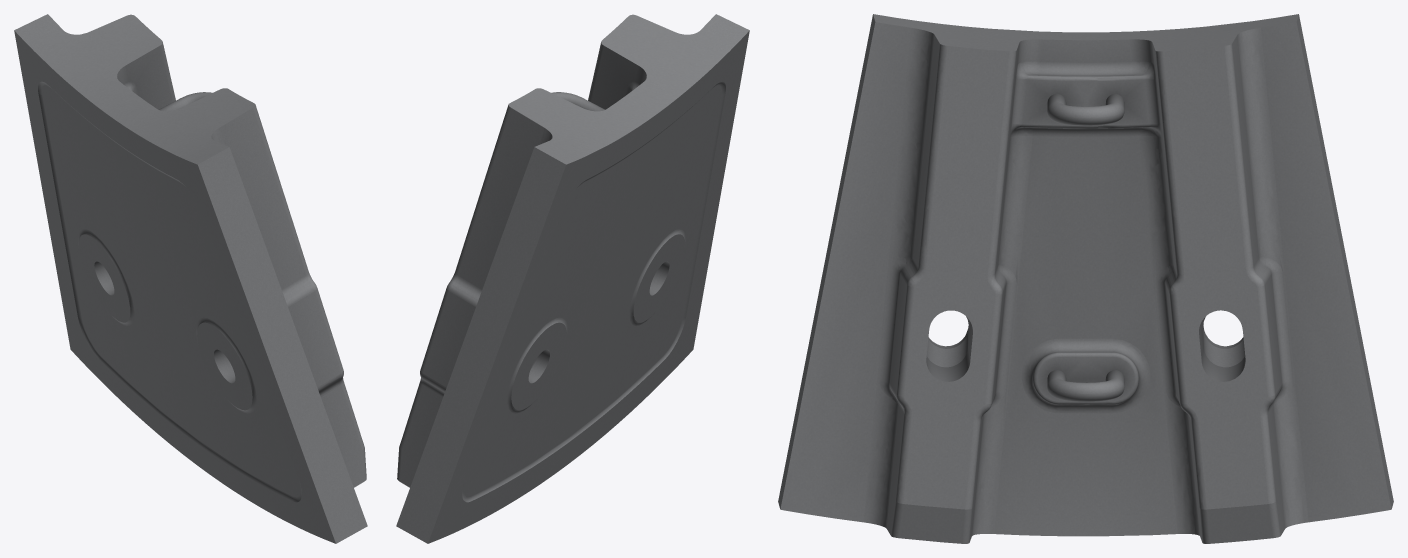
File: ball-end-liner-steel.glb
3 renders of one model, left to right at view 1: azimuth 30°, elevation 25°; view 2: azimuth 150°, elevation 25°; view 3: azimuth 270°, elevation 25°, orthographic. The views are drawn at different scales.
Parts seen in each view (by area): view 1: metal; view 2: metal; view 3: metal.
Part boxes in pixels (x1,y1,x2,y2): metal: [14, 14, 367, 543]; metal: [396, 14, 749, 543]; metal: [778, 14, 1393, 543].
Size of the model in its own units: 0.317 by 0.6963 by 0.8128.
Materials: 1 (1 with a texture image).
